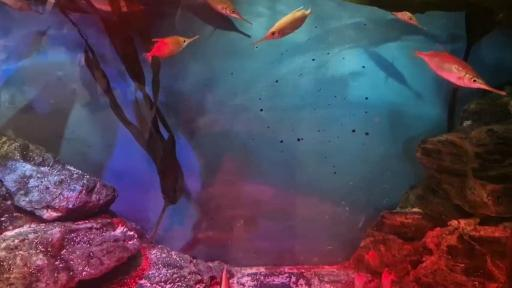Fish: (415, 51, 506, 95), (363, 49, 422, 98), (253, 7, 311, 45), (143, 36, 198, 63), (199, 0, 252, 24), (392, 12, 425, 29), (0, 0, 41, 13), (365, 250, 382, 271), (382, 268, 396, 287), (221, 266, 230, 287), (354, 273, 367, 287)
